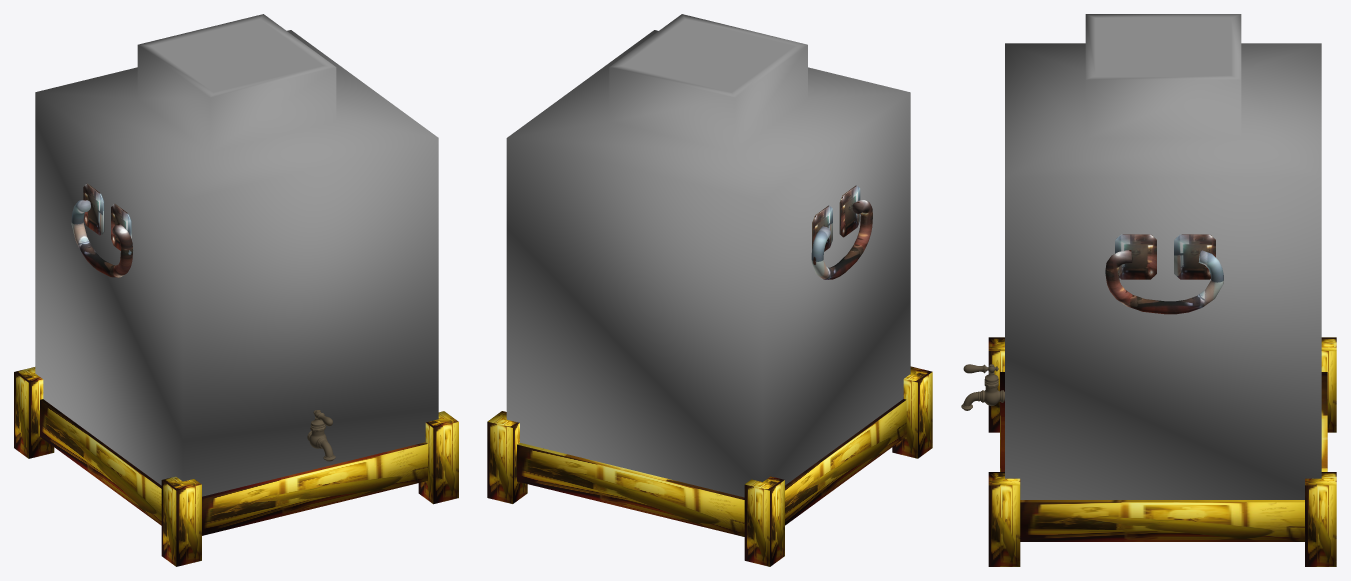
Rendered from Tank.obj.
3 renders of one model, left to right at view 1: azimuth 30°, elevation 25°; view 2: azimuth 150°, elevation 25°; view 3: azimuth 270°, elevation 25°, orthographic. The views are drawn at different scales.
Parts seen in each view (by area): view 1: Box01, Box02, Box05, Box06, Box04, Loft01, Rectangle01, sub01; view 2: Box01, Box02, Box04, Box03, Box05, Loft01, Rectangle02; view 3: Box01, Box02, Box06, Box03, Loft02, Rectangle04, Rectangle03, Box04, sub01, Box05.
Part boxes in pixels (x1,y1,x2,y2): Box01: [35, 14, 438, 496]; Box02: [40, 399, 427, 535]; Box05: [161, 476, 201, 566]; Box06: [418, 411, 458, 504]; Box04: [14, 367, 54, 458]; Loft01: [71, 200, 132, 277]; Rectangle01: [83, 183, 104, 235]; sub01: [307, 410, 335, 461]; Box01: [506, 14, 910, 497]; Box02: [517, 399, 906, 536]; Box04: [744, 476, 784, 566]; Box03: [487, 411, 527, 503]; Box05: [892, 366, 932, 458]; Loft01: [811, 200, 872, 279]; Rectangle02: [839, 185, 860, 237]; Box01: [1005, 14, 1321, 499]; Box02: [1000, 372, 1327, 541]; Box06: [988, 472, 1020, 566]; Box03: [1305, 472, 1336, 566]; Loft02: [1105, 250, 1223, 314]; Rectangle04: [1115, 234, 1156, 279]; Rectangle03: [1174, 234, 1215, 279]; Box04: [1321, 337, 1336, 432]; sub01: [961, 364, 1004, 410]; Box05: [988, 337, 1004, 432].
Bounding box in the file's own units: 4.35 × 6.13 × 4.67.
